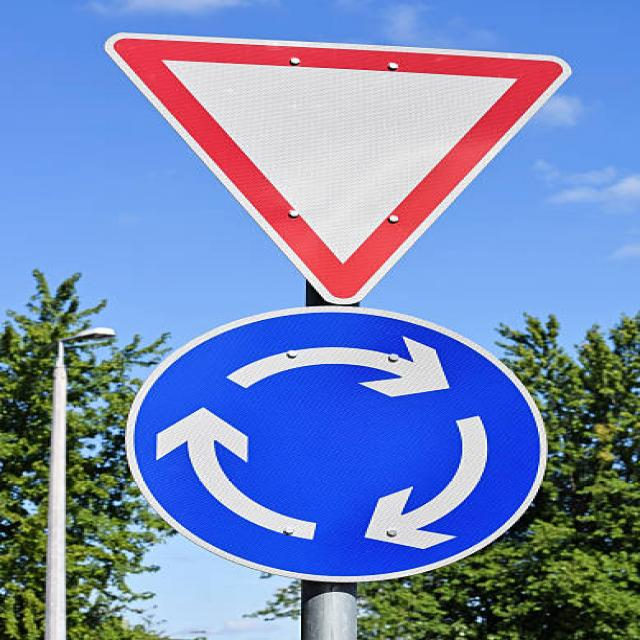round_about: (122, 301, 551, 583)
